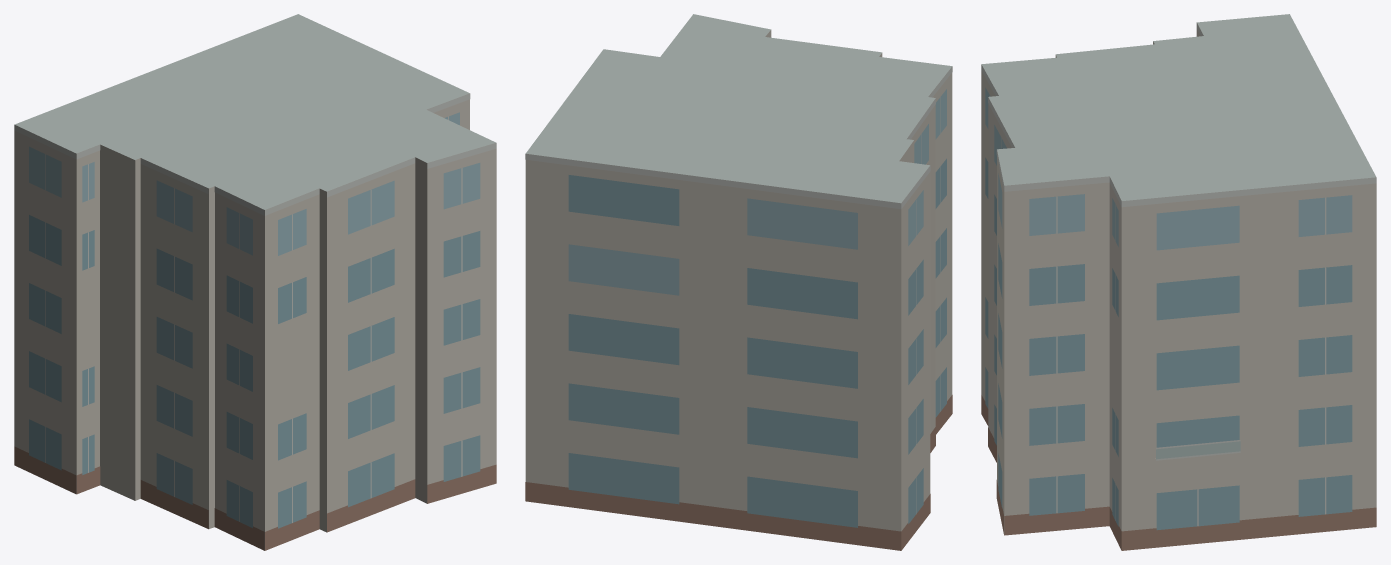
Rendered from survey-upis-32681765.glb.
The picture shows the model from 3 angles, left to right: view 1: azimuth 30°, elevation 25°; view 2: azimuth 150°, elevation 25°; view 3: azimuth 270°, elevation 25°; orthographic projection. The views are drawn at different scales.
Parts seen in each view (by area): view 1: survey-upis-32681765.tmp; view 2: survey-upis-32681765.tmp; view 3: survey-upis-32681765.tmp.
Part boxes in pixels (left/top/right/bottom): survey-upis-32681765.tmp: left=14, top=14, right=496, bottom=550; survey-upis-32681765.tmp: left=525, top=14, right=952, bottom=550; survey-upis-32681765.tmp: left=981, top=14, right=1376, bottom=550.
Bounding box in the file's own units: 16.16 × 14.07 × 14.42.
